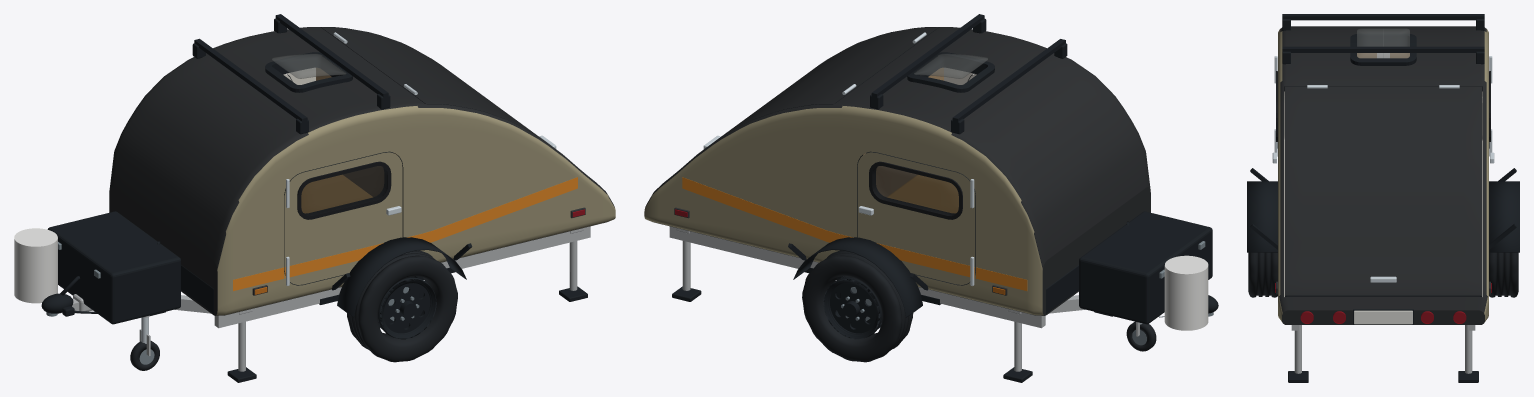
The model's file is generic-teardrop-travel-trailer-601b8038.glb.
3 views of the same model, side by side, from view 1: azimuth 30°, elevation 25°; view 2: azimuth 150°, elevation 25°; view 3: azimuth 270°, elevation 25° (orthographic). The views are drawn at different scales.
Parts seen in each view (by area): view 1: Original teardrop trailer lofted shell, Tongue storage box, Left entry door, Tyre with tread blocks, Rear galley hatch, Propane bottle, Chassis frame rail, Door window glazing, Off-road fender, Orange flank stripe.002, Roof fan raised frame, Queen mattress duvet (+11 smaller); view 2: Original teardrop trailer lofted shell, Tongue storage box, Right entry door, Tyre with tread blocks.001, Rear galley hatch, Propane bottle, Chassis frame rail.001, Door window glazing.001, Off-road fender.001, Orange flank stripe.005, Roof fan raised frame, Queen mattress duvet (+12 smaller); view 3: Rear galley hatch, Original teardrop trailer lofted shell, Off-road fender, Off-road fender.001, Roof fan raised frame, Roof rack crossbar.001, Roof rack crossbar, Tyre with tread blocks, Tyre with tread blocks.001, Roof fan tilted hatch, Rear registration plate, Stabiliser jack tube (+1 smaller).
Part boxes in pixels (x1,y1,x2,y2): Original teardrop trailer lofted shell: (109, 27, 615, 315); Tongue storage box: (47, 211, 180, 324); Left entry door: (284, 151, 402, 284); Tyre with tread blocks: (347, 250, 457, 362); Rear galley hatch: (321, 27, 599, 185); Propane bottle: (14, 228, 57, 303); Chassis frame rail: (214, 226, 590, 328); Door window glazing: (301, 166, 387, 215); Off-road fender: (337, 237, 466, 317); Orange flank stripe.002: (407, 177, 577, 242); Roof fan raised frame: (265, 52, 352, 92); Queen mattress duvet: (301, 175, 372, 213); Original teardrop trailer lofted shell: (644, 27, 1150, 315); Tongue storage box: (1079, 211, 1212, 324); Right entry door: (857, 151, 975, 284); Tyre with tread blocks.001: (802, 250, 913, 362); Rear galley hatch: (657, 27, 939, 188); Propane bottle: (1164, 255, 1208, 330); Chassis frame rail.001: (669, 226, 1045, 328); Door window glazing.001: (872, 166, 958, 215); Off-road fender.001: (793, 237, 922, 317); Orange flank stripe.005: (682, 177, 853, 242); Roof fan raised frame: (907, 52, 994, 92); Queen mattress duvet: (887, 175, 958, 213); Rear galley hatch: (1285, 86, 1481, 296); Original teardrop trailer lofted shell: (1278, 26, 1488, 324); Off-road fender: (1247, 181, 1277, 252); Off-road fender.001: (1489, 181, 1519, 252); Roof fan raised frame: (1350, 34, 1416, 65); Roof rack crossbar.001: (1282, 46, 1484, 52); Roof rack crossbar: (1282, 14, 1484, 20); Tyre with tread blocks: (1248, 252, 1277, 297); Tyre with tread blocks.001: (1489, 252, 1518, 297); Roof fan tilted hatch: (1357, 28, 1409, 58); Rear registration plate: (1354, 310, 1412, 324); Stabiliser jack tube: (1294, 325, 1301, 373).
Size of the model in its own units: 3.9 by 1.82 by 1.86.
23 materials, 23 textured.
